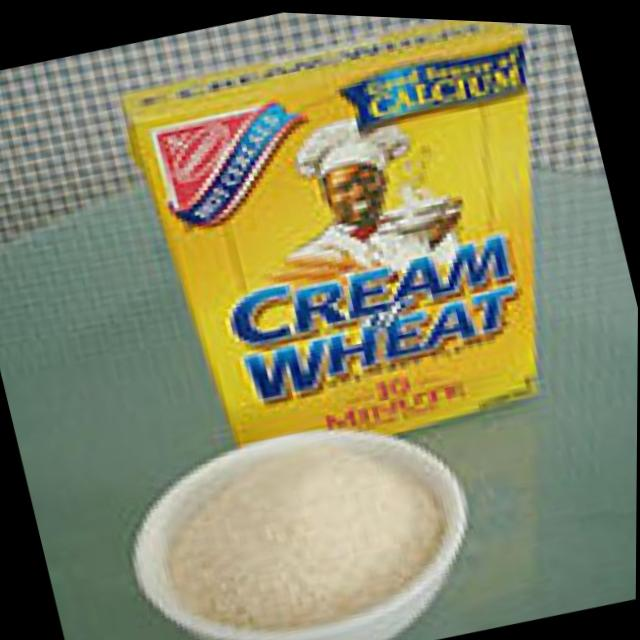box: (106, 4, 628, 503)
